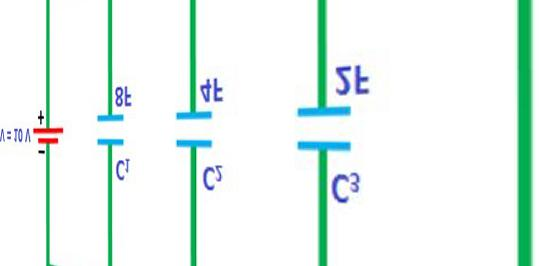Battery: (27, 99, 71, 162)
